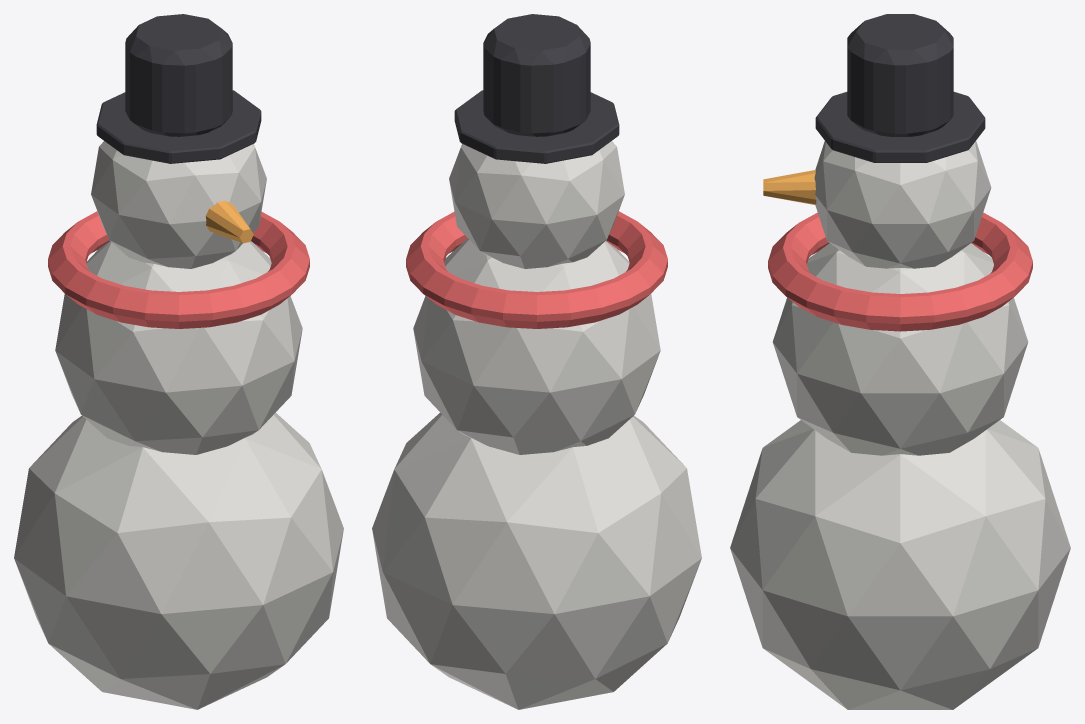
3 renders of one model, left to right at view 1: azimuth 30°, elevation 25°; view 2: azimuth 150°, elevation 25°; view 3: azimuth 270°, elevation 25°, orthographic.
Visible parts, largest first — view 1: PostVisual; view 2: PostVisual; view 3: PostVisual.
Boxes of the visible parts, box(x1,y1,x2,y2) form: PostVisual: box(14, 14, 343, 709); PostVisual: box(372, 14, 701, 709); PostVisual: box(730, 14, 1070, 709).
Bounding box in the file's own units: 0.1141 × 0.2605 × 0.12.
